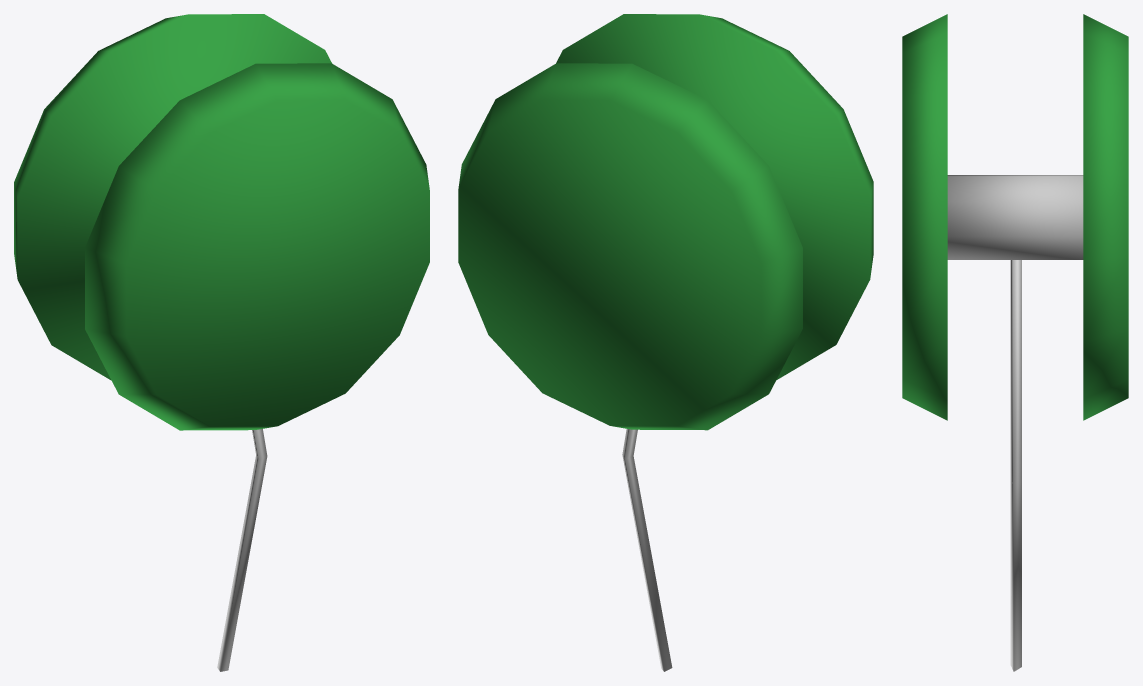
File: amazon.glb
3 renders of one model, left to right at view 1: azimuth 30°, elevation 25°; view 2: azimuth 150°, elevation 25°; view 3: azimuth 270°, elevation 25°, orthographic.
Parts seen in each view (by area): view 1: amazon_v0; view 2: amazon_v0; view 3: amazon_v0.
Part boxes in pixels (left/top/right/bottom): amazon_v0: left=14, top=14, right=429, bottom=671; amazon_v0: left=458, top=14, right=873, bottom=671; amazon_v0: left=902, top=14, right=1128, bottom=671.
Size of the model in its own units: 0.1755 by 0.3106 by 0.1.
